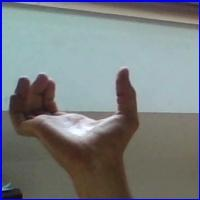B: (6, 63, 155, 176)
